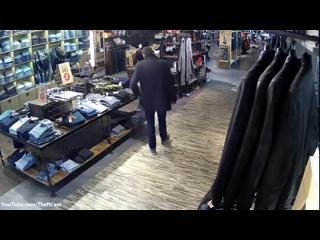Normal: (129, 46, 177, 154)
